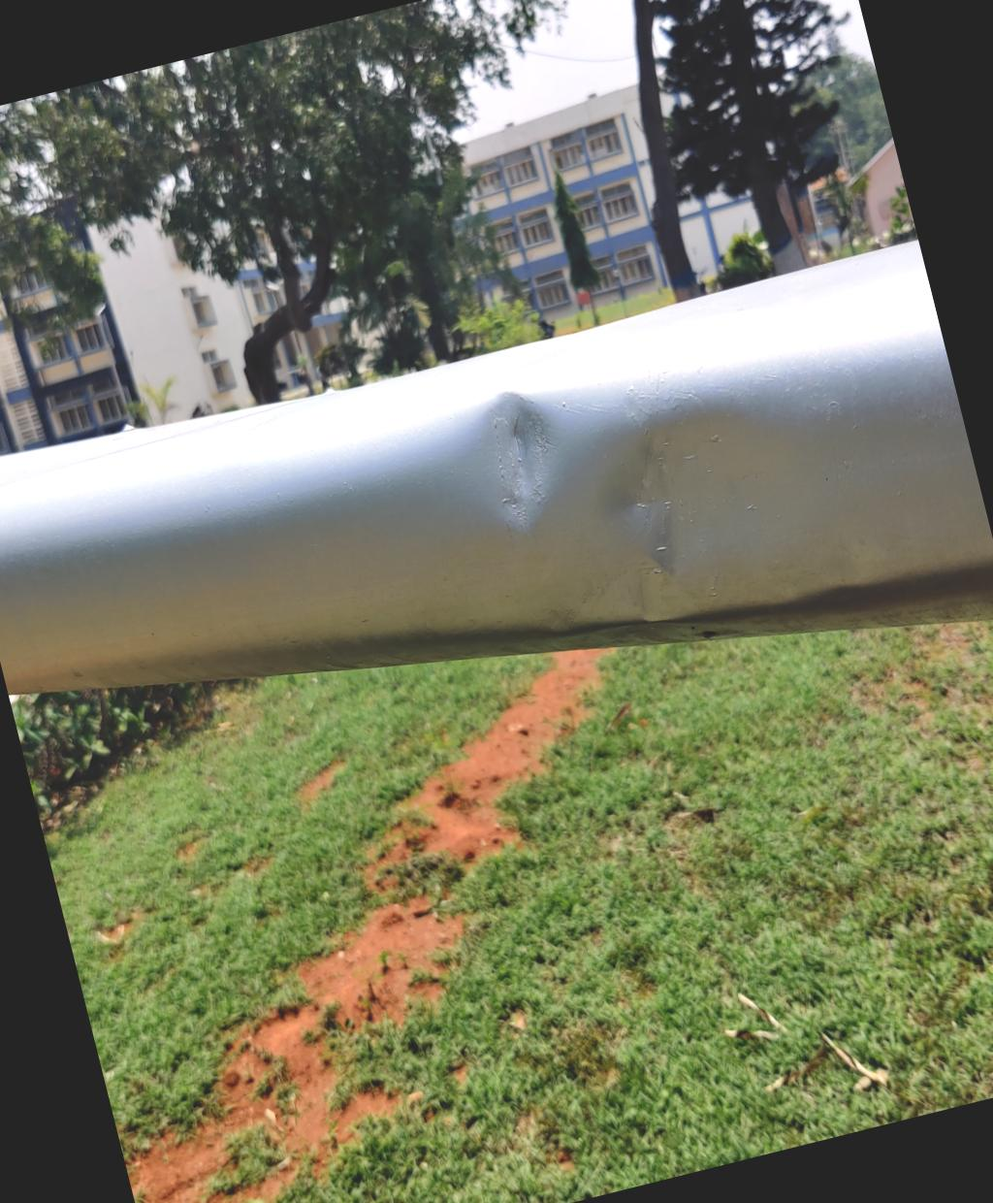dent: (554, 374, 807, 671), (418, 345, 615, 576)
